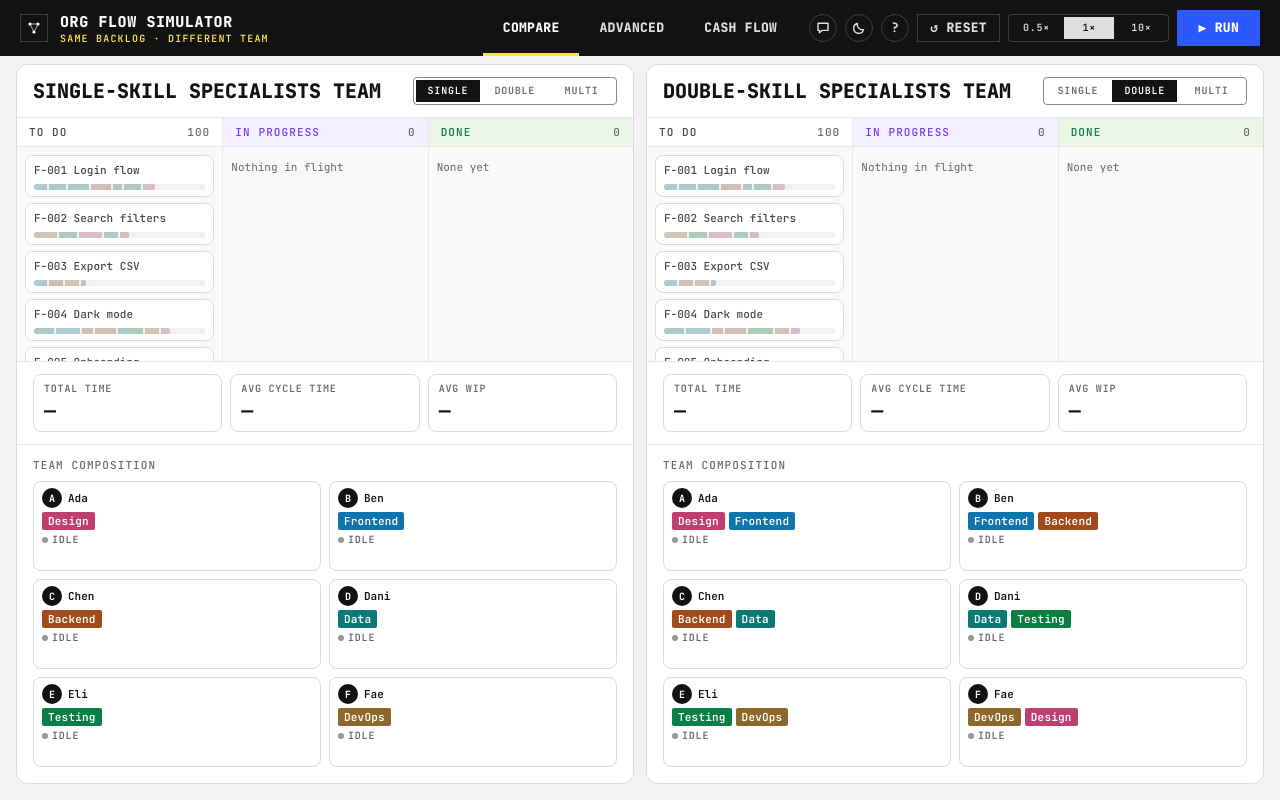
Scenario: feat-025 Příklady 8–10: prohlídka Cash Flow › Příklad 8: první přepnutí do Cash Flow spustí prohlídku a krok 1 zvýrazní záložku
Click the tab "Cash Flow": (741, 28) [684,0,797,56]
Wait 20 ms
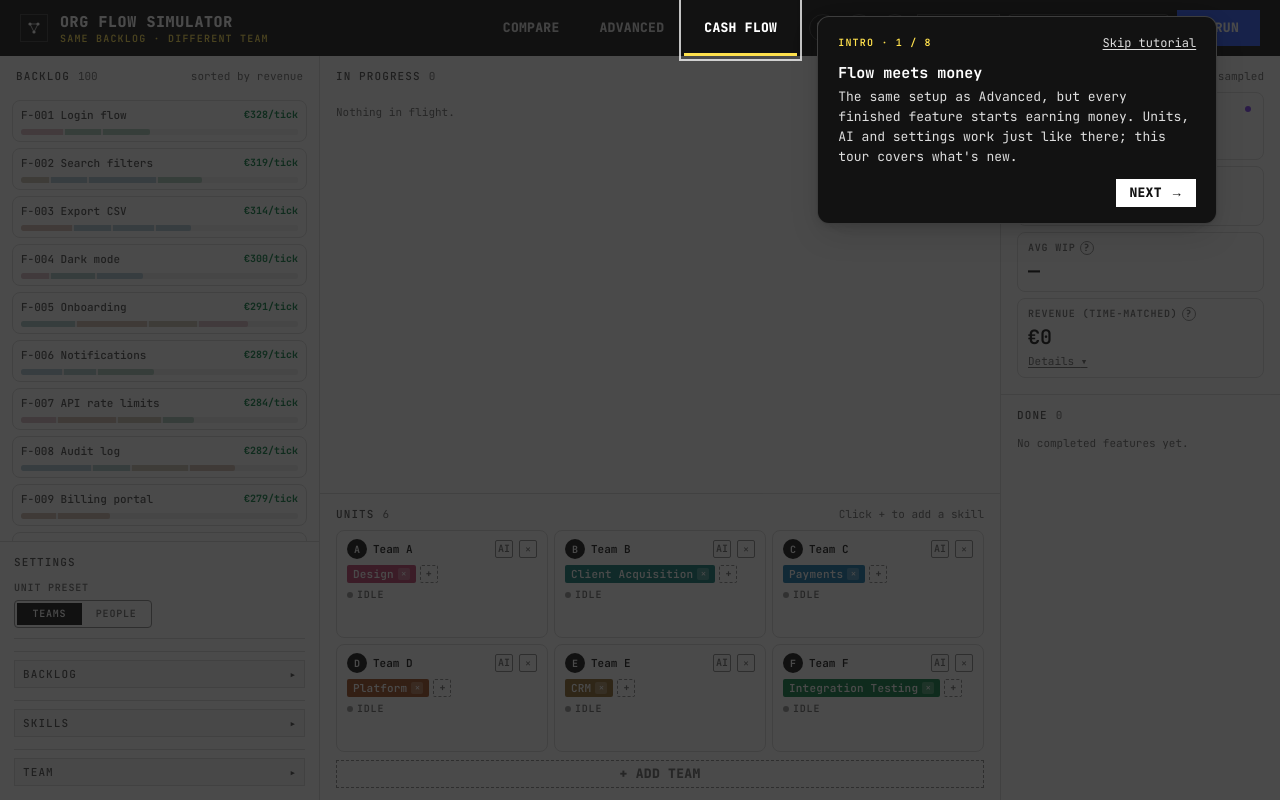
Now the text "INTRO · 1 / 8" is shown, box [838,37,932,49]
Now the heading "Flow meets money" is shown, box [838,63,982,83]
